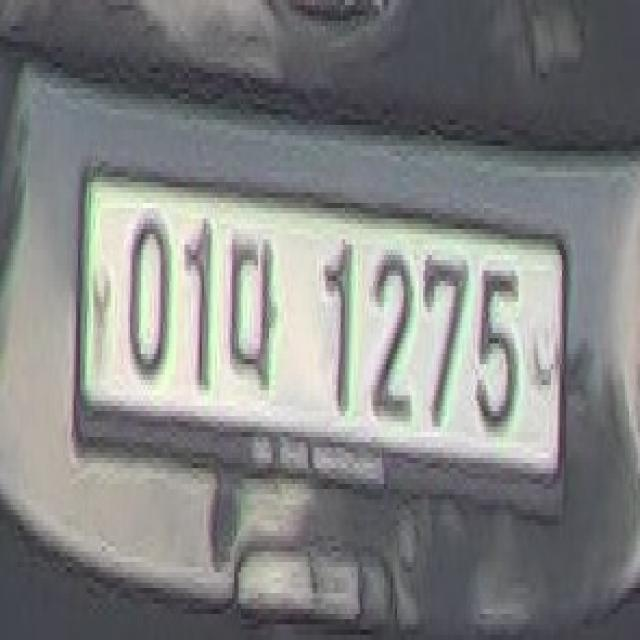0: (123, 207, 173, 386), (182, 204, 216, 396), (325, 236, 353, 413)
2: (370, 250, 412, 426)
5: (474, 256, 527, 447)
7: (422, 245, 469, 440)
da: (226, 222, 283, 402)
license_plate: (68, 164, 571, 493)
